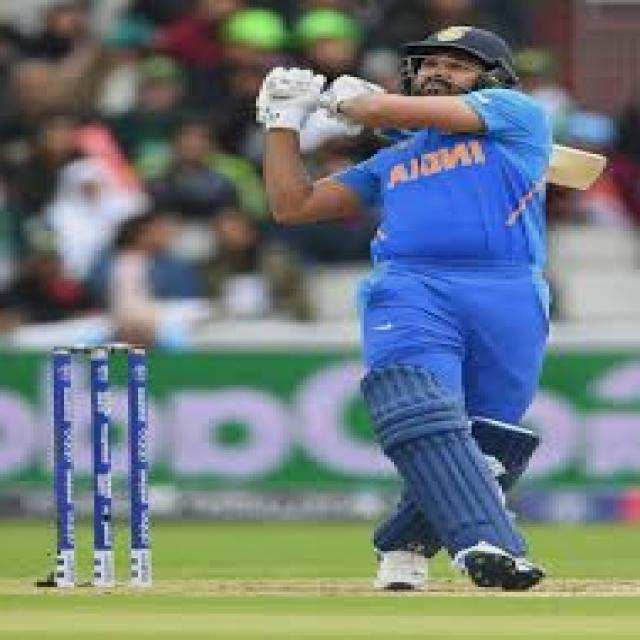toe: (576, 152, 615, 193)
